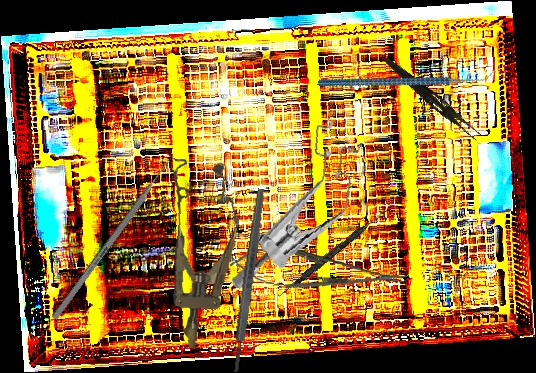Chopper: (317, 19, 496, 136)
Dressing Forceps: (379, 55, 485, 142)
Needle Holder: (228, 240, 408, 302)
Pusher: (51, 149, 179, 321)
Scalpel Handle: (230, 188, 267, 373)
Spatula Surgical: (277, 202, 392, 302)
Speculum: (227, 106, 367, 305), (154, 158, 245, 351)
